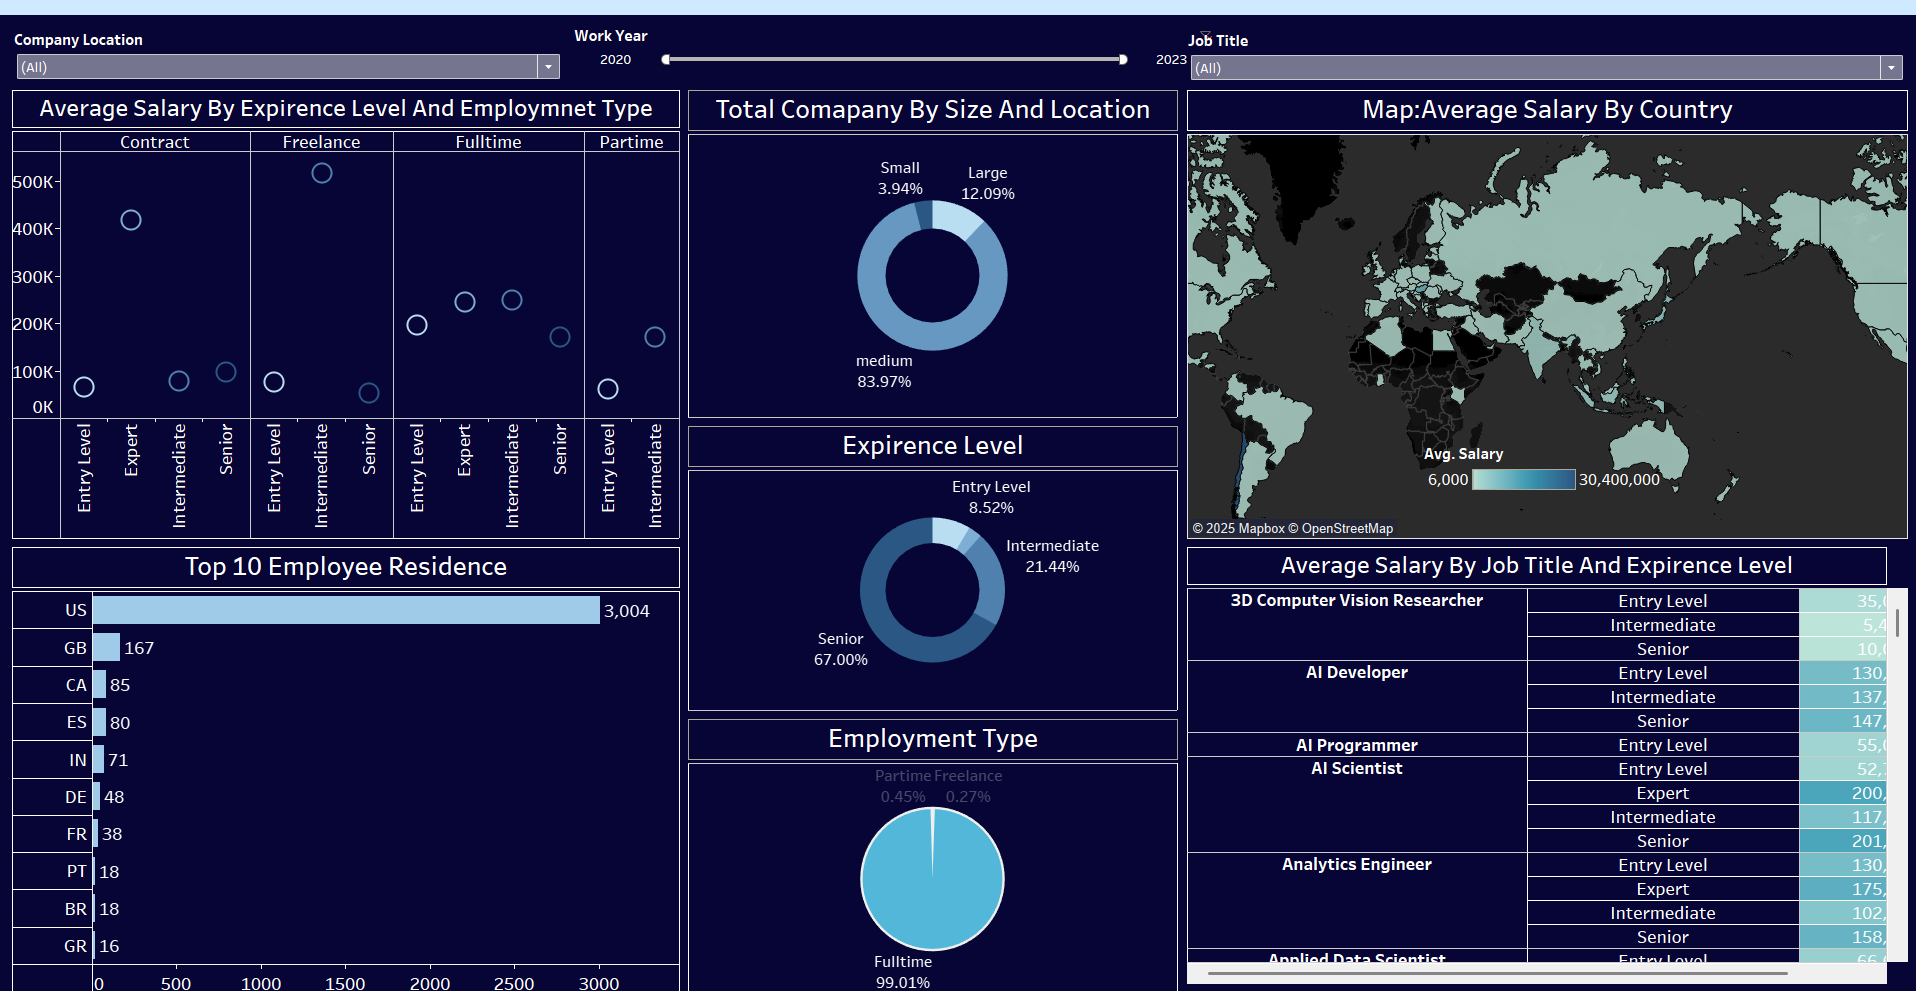

This screenshot's page, from the dashboard's own definition file:
{"tool":"tableau","page":{"name":"Dashboard 1","canvas":[1000,1000],"units":"permille","ordinal":0},"visuals":[{"type":"filter","title":"Total Comapany By Size And Location","param":"[federated.08z1fh30gm4iq61h53wsn1e00bcb].[none:work_year:qk]","box":[298.7,10,333.7,61.2]},{"type":"filter","title":"Total Comapany By Size And Location","param":"[federated.08z1fh30gm4iq61h53wsn1e00bcb].[none:company_location:nk]","box":[7.2,13.7,286.1,86.1]},{"type":"filter","title":"Map:Average Salary By Country","param":"[federated.08z1fh30gm4iq61h53wsn1e00bcb].[none:job_title:nk]","box":[618.6,15,374.2,76.2]},{"type":"worksheet","title":"Average Salary By Expirence Level And Employmnet Type","mark":"Shape","rows":["salary"],"cols":["employment_type","experience_level"],"box":[4.8,73.6,351.7,458.2]},{"type":"worksheet","title":"Total Comapany By Size And Location","mark":"Pie","rows":["Calculation_480477850979520513","Calculation_480477850979520513"],"box":[356.6,73.6,259.2,337]},{"type":"worksheet","title":"Map:Average Salary By Country","mark":"Automatic","box":[615.8,73.6,379.4,458.2]},{"type":"worksheet","title":"Expirence Level","mark":"Pie","rows":["Calculation_480477850979520513","Calculation_480477850979520513"],"box":[356.6,410.6,259.2,293.4]},{"type":"legend","title":"Map:Average Salary By Country","param":"[federated.08z1fh30gm4iq61h53wsn1e00bcb].[avg:salary:qk]","box":[741.5,430.7,125.5,86.1]},{"type":"worksheet","title":"Top 10 Employee Residence","mark":"Automatic","rows":["employee_residence"],"cols":["employee_residence"],"box":[4.8,531.8,351.7,458.2]},{"type":"worksheet","title":"Average Salary By Job Title And Expirence Level","mark":"Square","rows":["job_title","experience_level"],"box":[615.8,531.8,379.4,458.2]},{"type":"worksheet","title":"Employment Type","mark":"Pie","rows":["Calculation_480477850979520513","Calculation_480477850979520513"],"box":[356.6,704.1,259.2,286]}]}

Visuals, with their boxes on the dashboard's canvas, which has no fixed pixel size, in thousandths of its width and height (x1, y1, x2, y2). These are canvas units, not pixel positions in the 1916x991 screenshot, which may show the page scaled, cropped or inside an application window:
"Total Comapany By Size And Location" filter: [x1=299, y1=10, x2=632, y2=71]
"Total Comapany By Size And Location" filter: [x1=7, y1=14, x2=293, y2=100]
"Map:Average Salary By Country" filter: [x1=619, y1=15, x2=993, y2=91]
"Average Salary By Expirence Level And Employmnet Type" worksheet (Shape marks): [x1=5, y1=74, x2=356, y2=532]
"Total Comapany By Size And Location" worksheet (Pie marks): [x1=357, y1=74, x2=616, y2=411]
"Map:Average Salary By Country" worksheet: [x1=616, y1=74, x2=995, y2=532]
"Expirence Level" worksheet (Pie marks): [x1=357, y1=411, x2=616, y2=704]
"Map:Average Salary By Country" legend: [x1=742, y1=431, x2=867, y2=517]
"Top 10 Employee Residence" worksheet: [x1=5, y1=532, x2=356, y2=990]
"Average Salary By Job Title And Expirence Level" worksheet (Square marks): [x1=616, y1=532, x2=995, y2=990]
"Employment Type" worksheet (Pie marks): [x1=357, y1=704, x2=616, y2=990]
